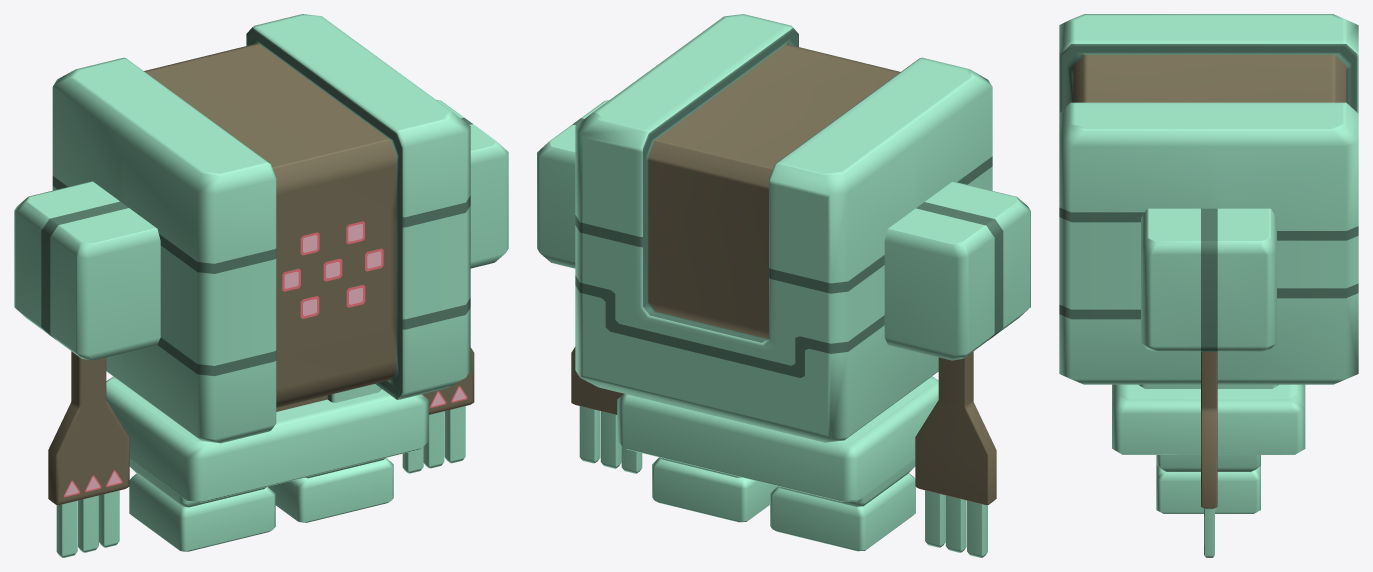
Rendered from model_shiny.obj.
The picture shows the model from 3 angles, left to right: view 1: azimuth 30°, elevation 25°; view 2: azimuth 150°, elevation 25°; view 3: azimuth 270°, elevation 25°; orthographic projection. The views are drawn at different scales.
Visible parts, largest first — view 1: 0379_registeel_shiny; view 2: 0379_registeel_shiny; view 3: 0379_registeel_shiny.
Part boxes in pixels (x1=…): 0379_registeel_shiny: x1=14, y1=14, x2=508, y2=557; 0379_registeel_shiny: x1=537, y1=14, x2=1030, y2=557; 0379_registeel_shiny: x1=1059, y1=14, x2=1358, y2=557.
Bounding box in the file's own units: 3.37 × 3.09 × 2.13.
Materials: 1 (1 with a texture image).
